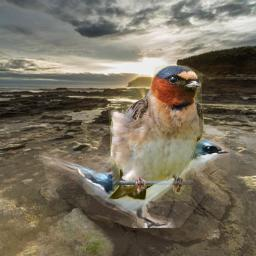Swallow: (39, 126, 230, 228), (107, 65, 207, 201)
